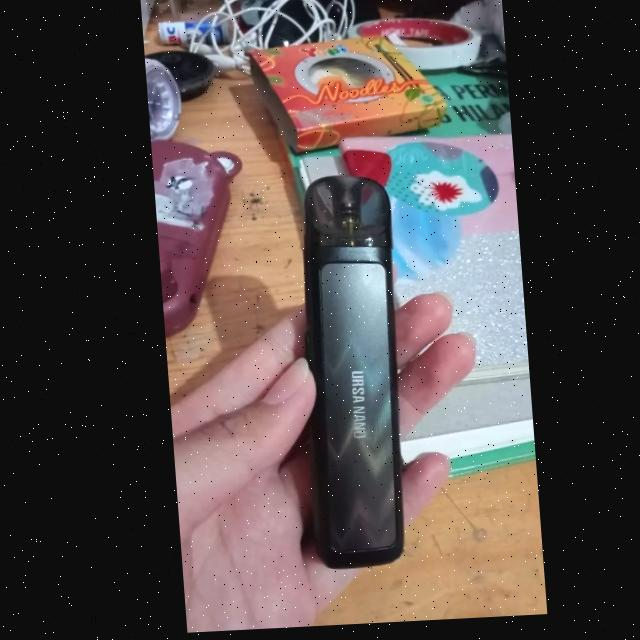vape: (287, 176, 408, 573)
